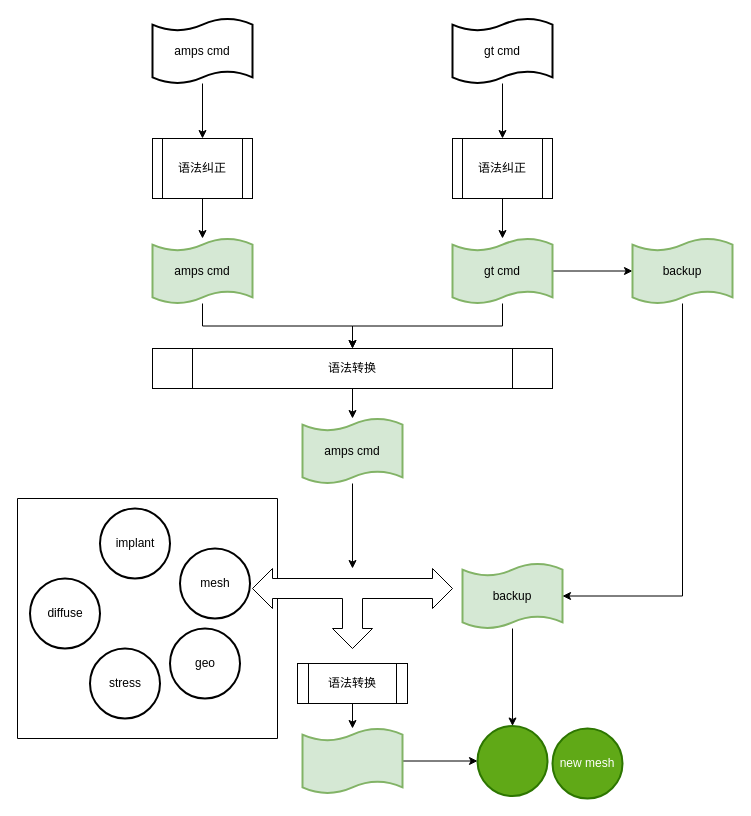
Some shapes in this 751 by 816 pixel diagram are drawn without their labels. The shapes that lost their labels are listed below. From the top down, each one's centre as x and y in pixels, then its label:
At point 352,608: "语法分派".
At point 352,760: "new gt cmd".
At point 512,760: "new geo".
